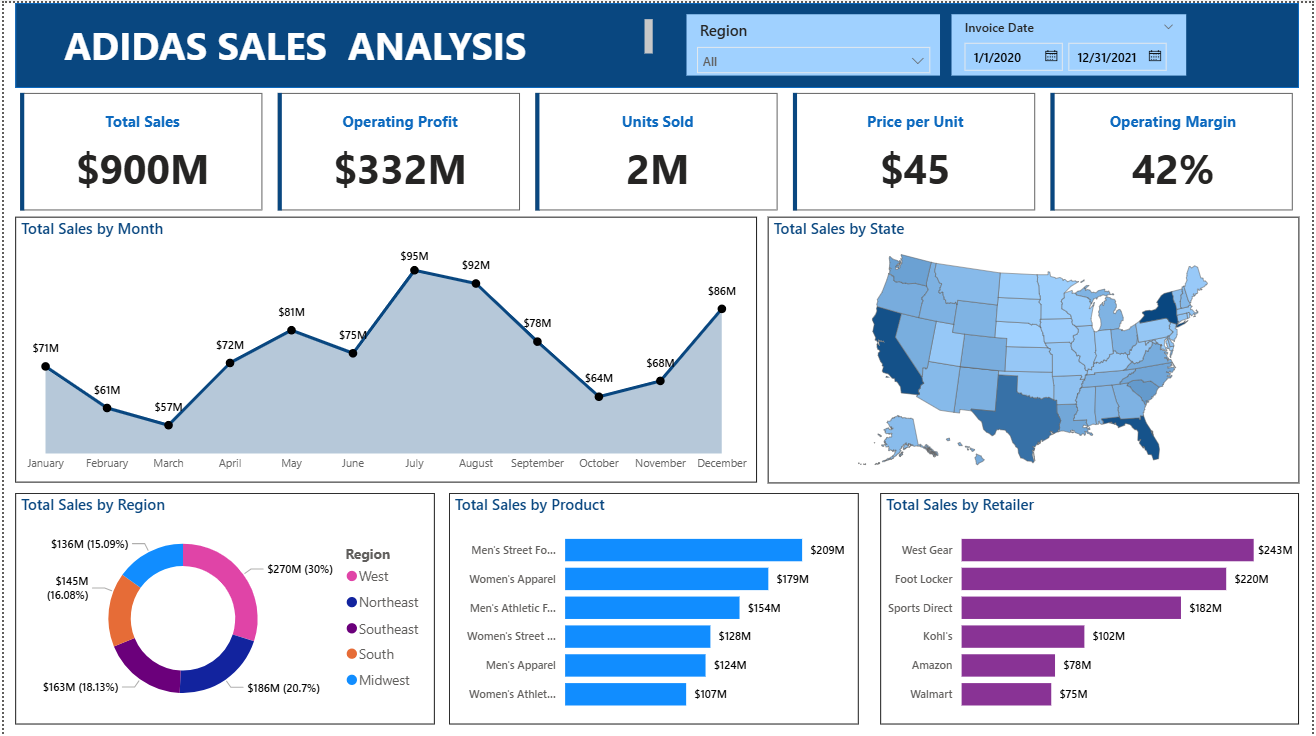

The page's visual inventory and layout, read from the dashboard file:
{"tool":"powerbi","page":{"name":"Page 1","canvas":[1280,720],"ordinal":0},"visuals":[{"type":"shape","box":[11,0,1255.8,83.2],"z":0},{"type":"textbox","box":[53.5,11,585.9,50.8],"z":1000},{"type":"cardVisual","fields":{"Data":["Sum(Data Sales Adidas.Total Sales)","Sum(Data Sales Adidas.Operating Profit)","Sum(Data Sales Adidas.Units Sold)","Avg(Data Sales Adidas.Price per Unit)","Avg(Data Sales Adidas.Operating Margin)"]},"box":[11,83.7,1256,125],"z":2000},{"type":"areaChart","title":"Total Sales by Month","fields":{"Category":["Data Sales Adidas.Invoice Date.Variation.Date Hierarchy.Month"],"Y":["Sum(Data Sales Adidas.Total Sales)"]},"box":[11.4,208.6,725.7,260],"z":3000},{"type":"shapeMap","title":"Total Sales by State","fields":{"Category":["Data Sales Adidas.State"],"Value":["Sum(Data Sales Adidas.Total Sales)"]},"box":[747.2,209.1,519.7,260.5],"z":3001},{"type":"donutChart","title":"Total Sales by Region","fields":{"Category":["Data Sales Adidas.Region"],"Y":["Sum(Data Sales Adidas.Total Sales)"]},"box":[11,479.4,410,226],"z":3002},{"type":"barChart","title":"Total Sales by Product","fields":{"Category":["Data Sales Adidas.Product"],"Y":["Sum(Data Sales Adidas.Total Sales)"]},"box":[435.3,479.4,401.1,226.2],"z":3003},{"type":"barChart","title":"Total Sales by Retailer","fields":{"Y":["Sum(Data Sales Adidas.Total Sales)"],"Category":["Data Sales Adidas.Retailer"]},"box":[857.2,479.4,409.6,226.2],"z":3004},{"type":"slicer","fields":{"Values":["Data Sales Adidas.Region"]},"box":[667.7,11,248.2,59.9],"z":3005},{"type":"slicer","fields":{"Values":["Data Sales Adidas.Invoice Date"]},"box":[926.9,11,229.9,59.9],"z":3006}]}

Visuals, with their boxes in screenshot pixels (x1, y1, x2, y2), scaled from the page's 1280x720 canvas onto the 1316x736 screenshot:
shape: select_region(11, 0, 1302, 85)
textbox: select_region(55, 11, 657, 63)
cardVisual - Sum(Data Sales Adidas.Total Sales) x Sum(Data Sales Adidas.Operating Profit): select_region(11, 86, 1303, 213)
"Total Sales by Month" areaChart: select_region(12, 213, 758, 479)
"Total Sales by State" shapeMap: select_region(768, 214, 1303, 480)
"Total Sales by Region" donutChart: select_region(11, 490, 433, 721)
"Total Sales by Product" barChart: select_region(448, 490, 860, 721)
"Total Sales by Retailer" barChart: select_region(881, 490, 1302, 721)
slicer - Data Sales Adidas.Region: select_region(686, 11, 942, 72)
slicer - Data Sales Adidas.Invoice Date: select_region(953, 11, 1189, 72)
